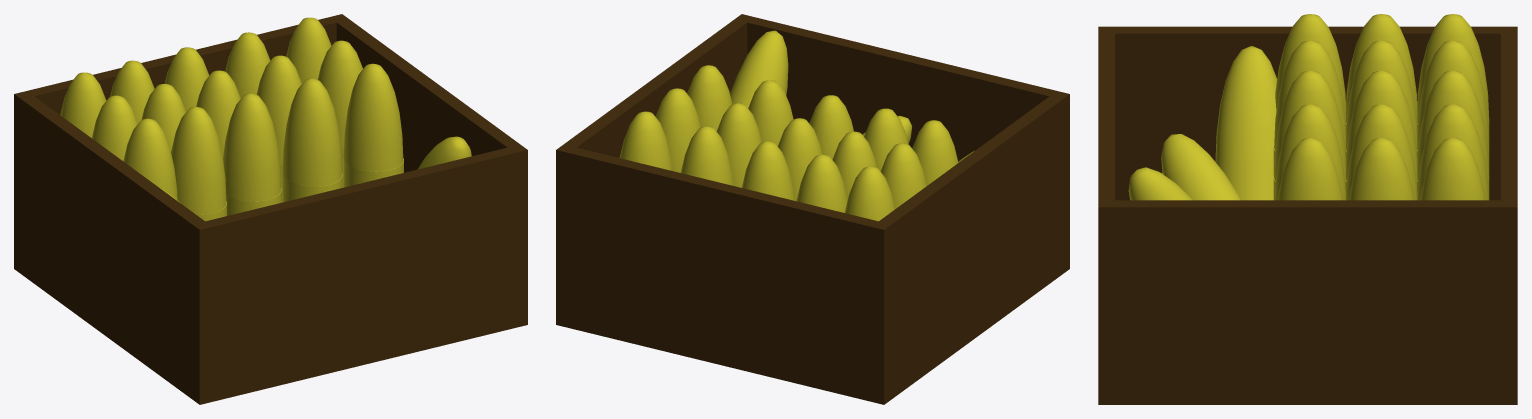
Rendered from ammo.fbx.
3 renders of one model, left to right at view 1: azimuth 30°, elevation 25°; view 2: azimuth 150°, elevation 25°; view 3: azimuth 270°, elevation 25°, orthographic. The views are drawn at different scales.
Visible parts, largest first — view 1: block (×4), sphere_half (×16), cylinder (×3); view 2: block (×4), sphere_half (×16); view 3: block (×4), sphere_half (×18), cylinder.
Boxes of the visible parts, left/top/right/bottom form: block (×4): left=14, top=14, right=527, bottom=404; sphere_half (×16): left=60, top=17, right=471, bottom=214; cylinder (×3): left=226, top=158, right=403, bottom=215; block (×4): left=556, top=14, right=1069, bottom=404; sphere_half (×16): left=619, top=30, right=958, bottom=221; block (×4): left=1098, top=26, right=1517, bottom=404; sphere_half (×18): left=1128, top=14, right=1489, bottom=200; cylinder: left=1216, top=160, right=1273, bottom=200.
Bounding box in the file's own units: 10.2 × 6.24 × 10.
